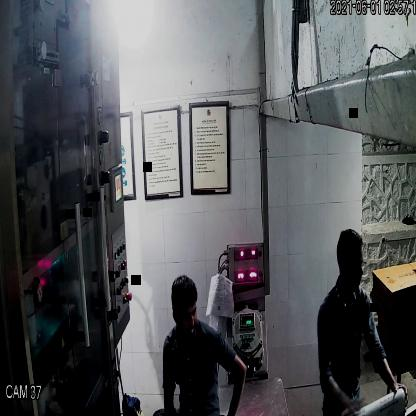no_goggles: (172, 301, 200, 325)
